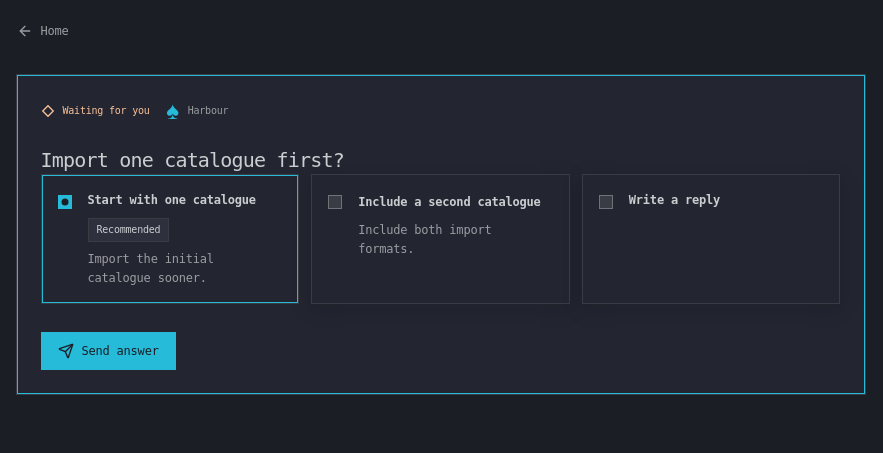
Test: answers › Decision sends option IDs and displays the recorded answer
Step 1. Click the button "Send answer" → (108, 351), box [40,332,176,370]
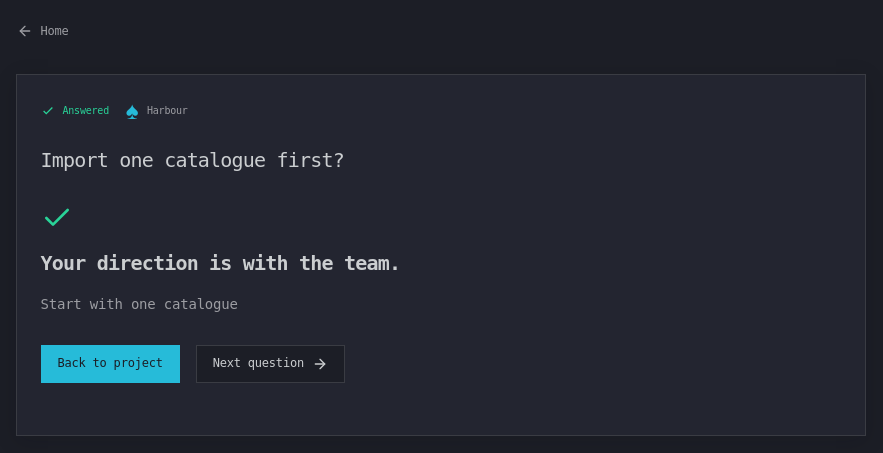
Expected: the heading "Your direction is with the team." is shown, [40,251,400,275]
